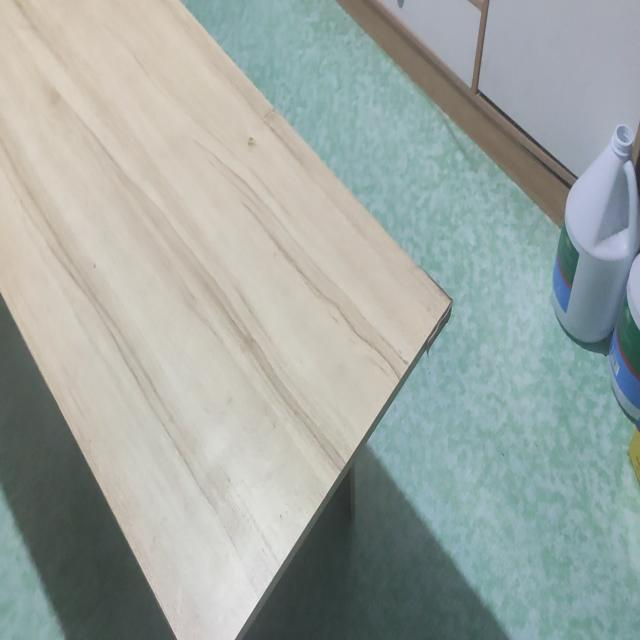table: (0, 0, 450, 640)
